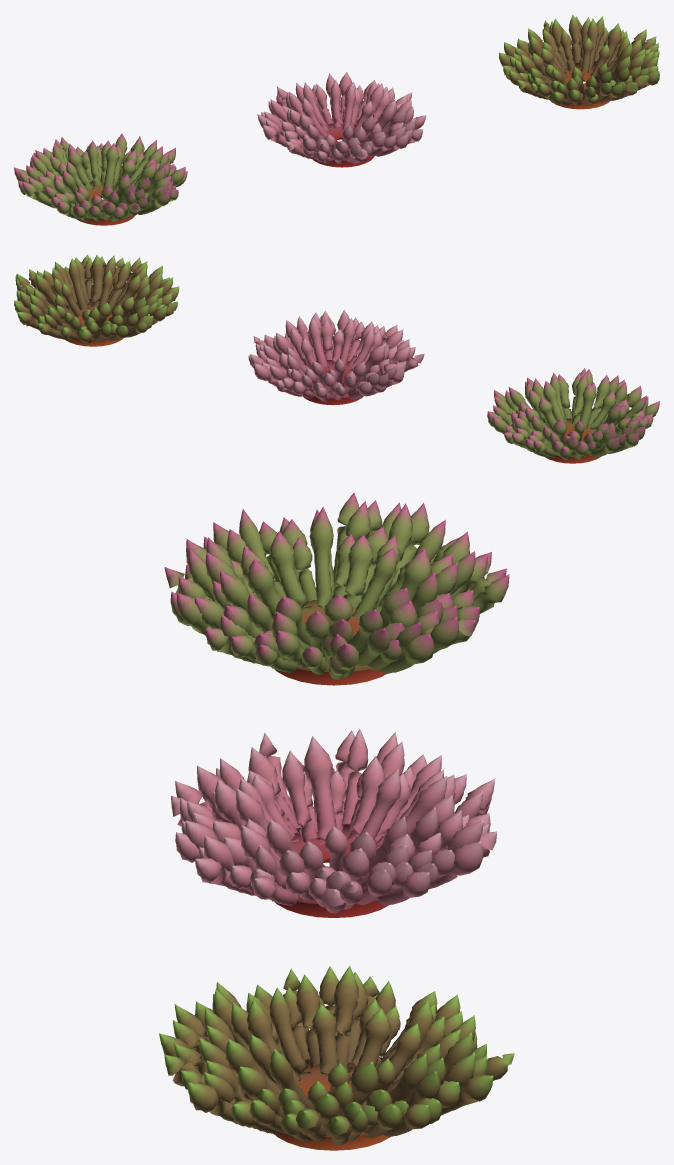
3 renders of one model, top to bottom at view 1: azimuth 30°, elevation 25°; view 2: azimuth 150°, elevation 25°; view 3: azimuth 270°, elevation 25°, orthographic. The views are drawn at different scales.
Parts seen in each view (by area): view 1: bubble-tip-anemone, bubble-tip-anemone.002, bubble-tip-anemone.001; view 2: bubble-tip-anemone.002, bubble-tip-anemone.001, bubble-tip-anemone; view 3: bubble-tip-anemone, bubble-tip-anemone.002, bubble-tip-anemone.001.
Part boxes in pixels (box(x1,y1,x2,y2)): bubble-tip-anemone: box(14, 133, 187, 225); bubble-tip-anemone.002: box(499, 14, 659, 109); bubble-tip-anemone.001: box(257, 72, 426, 167); bubble-tip-anemone.002: box(14, 254, 179, 346); bubble-tip-anemone.001: box(248, 310, 424, 405); bubble-tip-anemone: box(487, 368, 659, 463); bubble-tip-anemone: box(164, 492, 509, 685); bubble-tip-anemone.002: box(159, 966, 514, 1150); bubble-tip-anemone.001: box(171, 728, 496, 917).
Size of the model in its own units: 7.93 by 0.6577 by 1.94.
